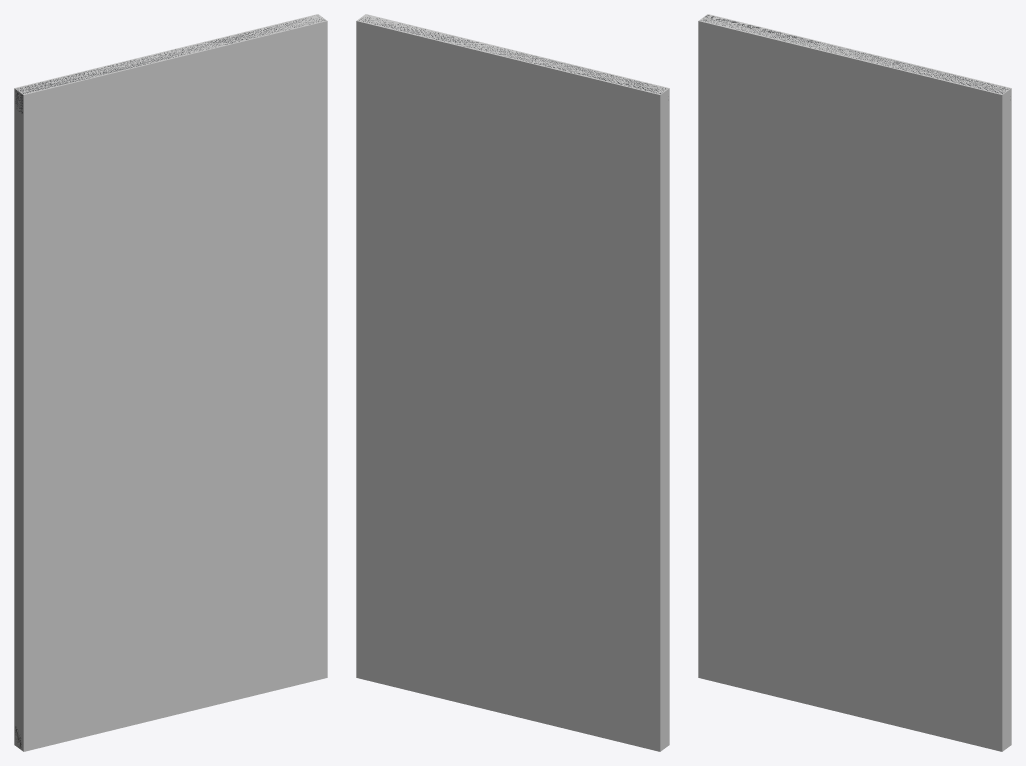
Rendered from Fence_Panel_1m.glb.
3 renders of one model, left to right at view 1: azimuth 30°, elevation 25°; view 2: azimuth 150°, elevation 25°; view 3: azimuth 330°, elevation 25°, orthographic.
Visible parts, largest first — view 1: Fence_Panel_1m; view 2: Fence_Panel_1m; view 3: Fence_Panel_1m.
Boxes of the visible parts, x1,y1,x2,y2 form: Fence_Panel_1m: (14, 14, 327, 751); Fence_Panel_1m: (356, 14, 669, 751); Fence_Panel_1m: (698, 14, 1011, 751).
Size of the model in its own units: 0.92 by 1.9 by 0.05.
Materials: 2 (1 with a texture image).
